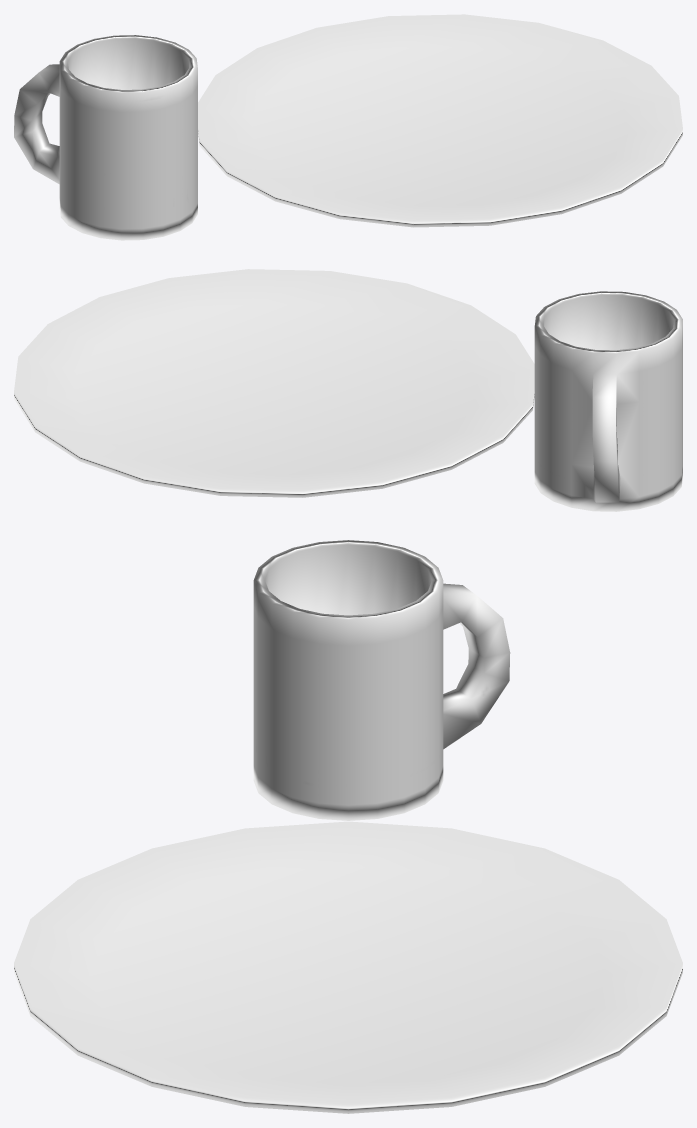
The model's file is cup_plate.fbx.
3 renders of one model, top to bottom at view 1: azimuth 30°, elevation 25°; view 2: azimuth 150°, elevation 25°; view 3: azimuth 270°, elevation 25°, orthographic. The views are drawn at different scales.
Visible parts, largest first — view 1: plate, cup; view 2: plate, cup; view 3: plate, cup.
Boxes of the visible parts, <box> form: plate: <box>198,14,682,227</box>; cup: <box>14,35,197,240</box>; plate: <box>14,269,534,497</box>; cup: <box>534,291,682,511</box>; plate: <box>14,821,682,1113</box>; cup: <box>253,540,510,820</box>.
Bounding box in the file's own units: 56.44 × 13.57 × 40.99.
